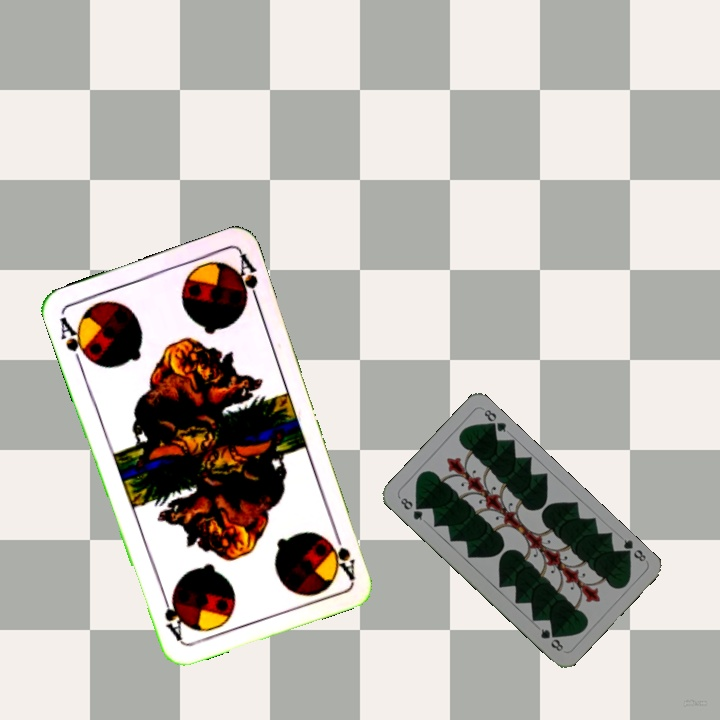G8: (617, 535, 649, 564), (396, 493, 426, 523)
SA: (55, 313, 94, 369), (325, 524, 358, 582)
